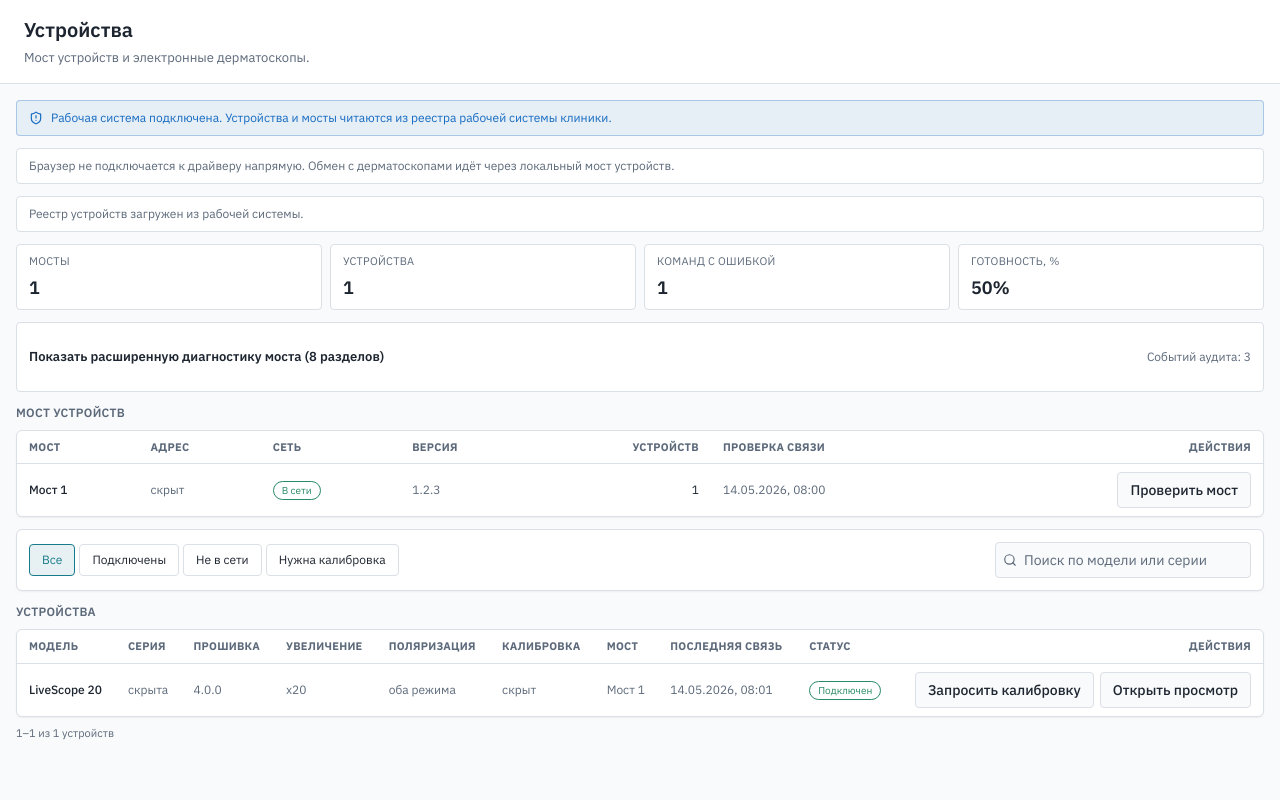
Test: SysDevicesPage › loads self-hosted bridge and device registry with bearer token
Later steps or results of the test are not shown.
Check: the text "Рабочая система подключена" is shown, box [51,110,612,125]
Check: the text "LiveScope 20" is shown, box [17,663,116,716]
Step 1. Click the tab "Нужна калибровка" → [332, 560], box [266,544,399,576]
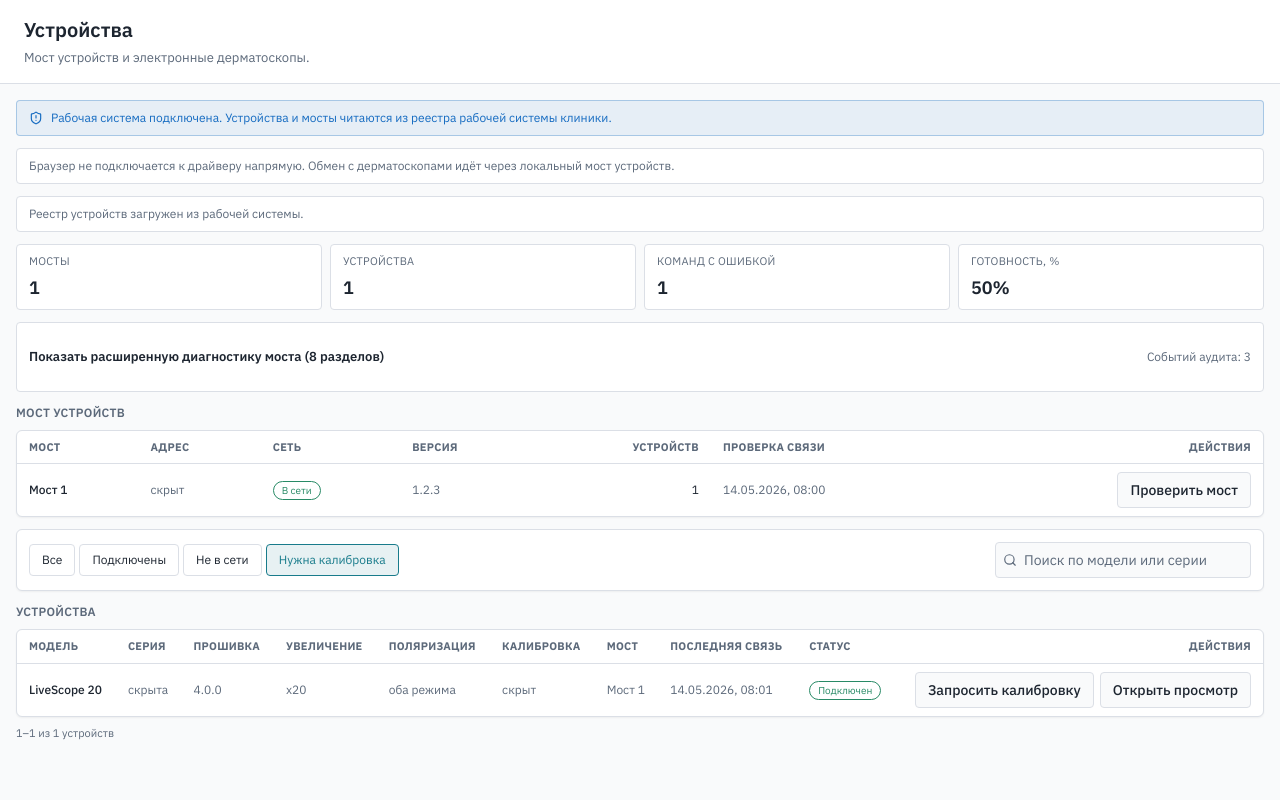
Check: the text "LiveScope 20" is shown, box [17,663,116,716]
Step 2. Click the button "Проверить мост" → [1184, 490], box [1117,472,1251,508]
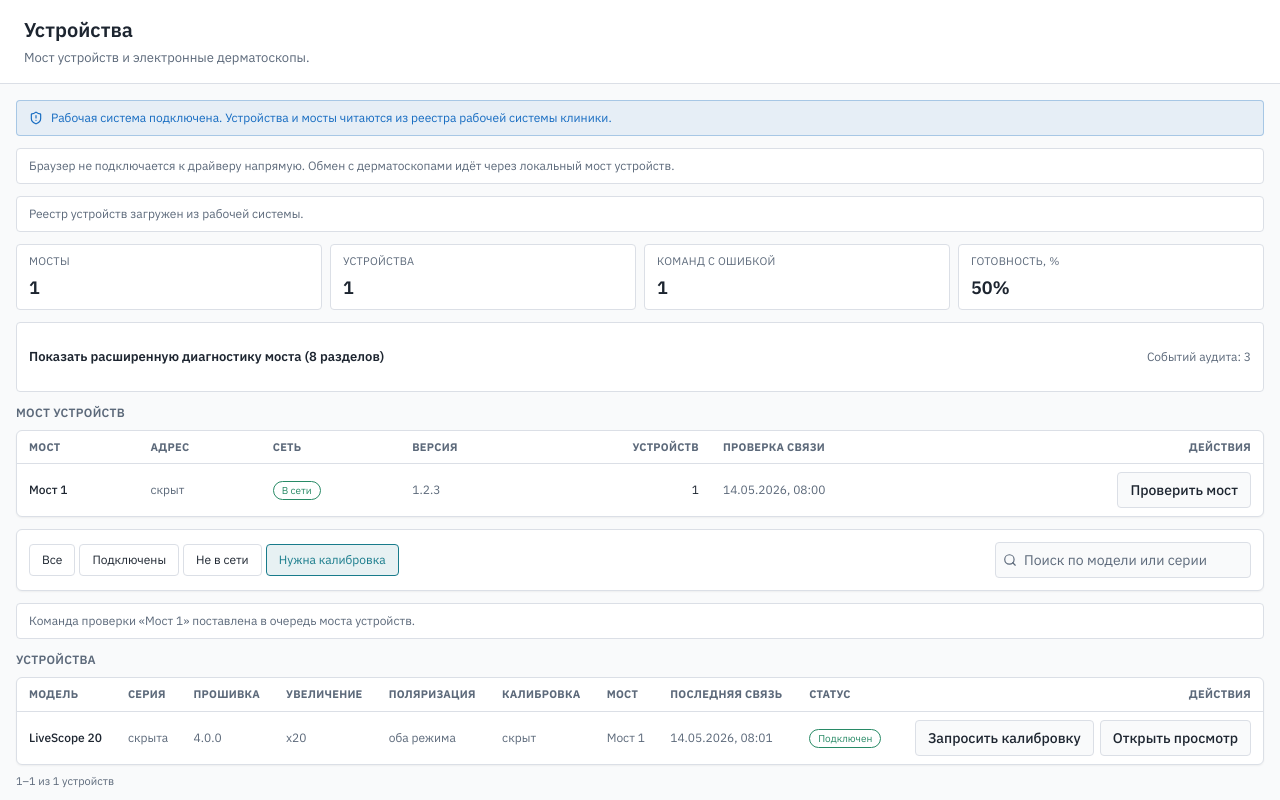
Check: the text "Команда проверки «Мост 1» поставлена в очередь моста устройств." is shown, box [16,603,1264,639]
Step 3. Click the button "Запросить калибровку" → [1004, 738], box [915,720,1094,756]
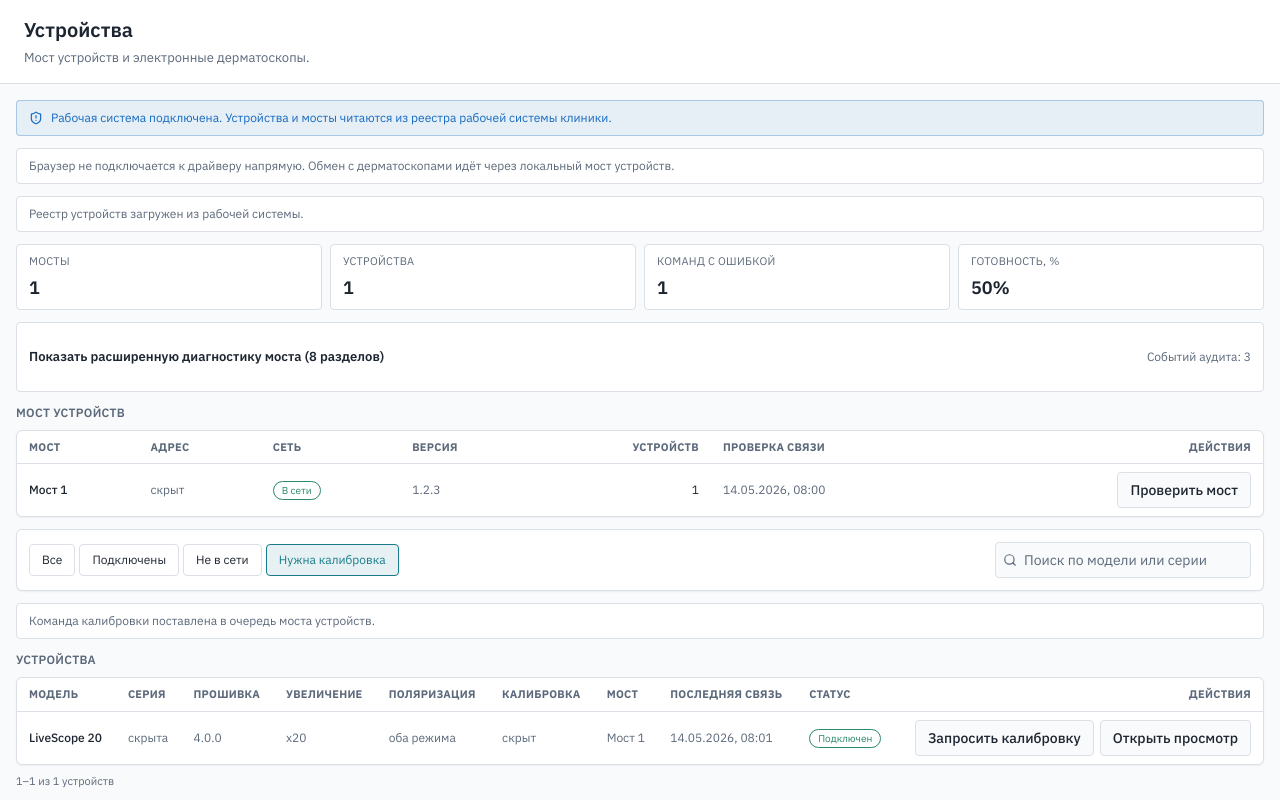
Check: the text "Команда калибровки поставлена в очередь моста устройств." is shown, box [16,603,1264,639]
